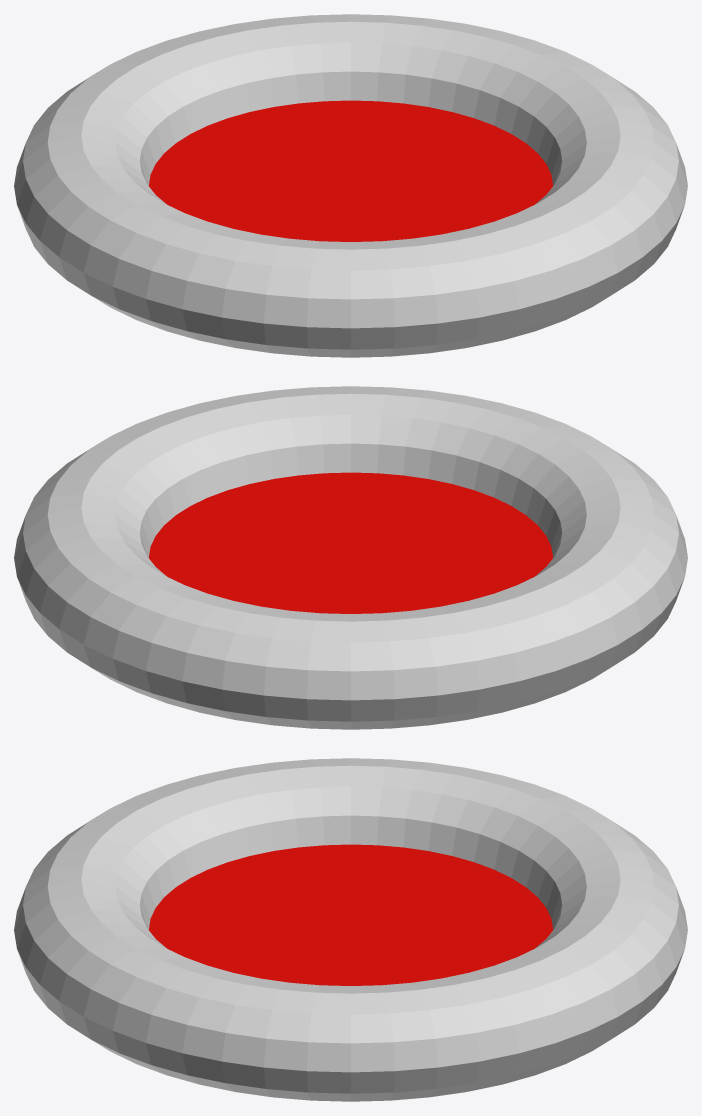
Rendered from RedGunPlatform.fbx.
The picture shows the model from 3 angles, top to bottom: view 1: azimuth 30°, elevation 25°; view 2: azimuth 150°, elevation 25°; view 3: azimuth 270°, elevation 25°; orthographic projection.
Parts seen in each view (by area): view 1: Torus, Plane; view 2: Torus, Plane; view 3: Torus, Plane.
Boxes of the visible parts, left/top/right/bottom form: Torus: left=14, top=14, right=687, bottom=357; Plane: left=149, top=100, right=552, bottom=241; Torus: left=14, top=386, right=687, bottom=729; Plane: left=149, top=472, right=552, bottom=613; Torus: left=14, top=758, right=687, bottom=1101; Plane: left=149, top=844, right=552, bottom=985.
Bounding box in the file's own units: 250 × 41.18 × 250.
